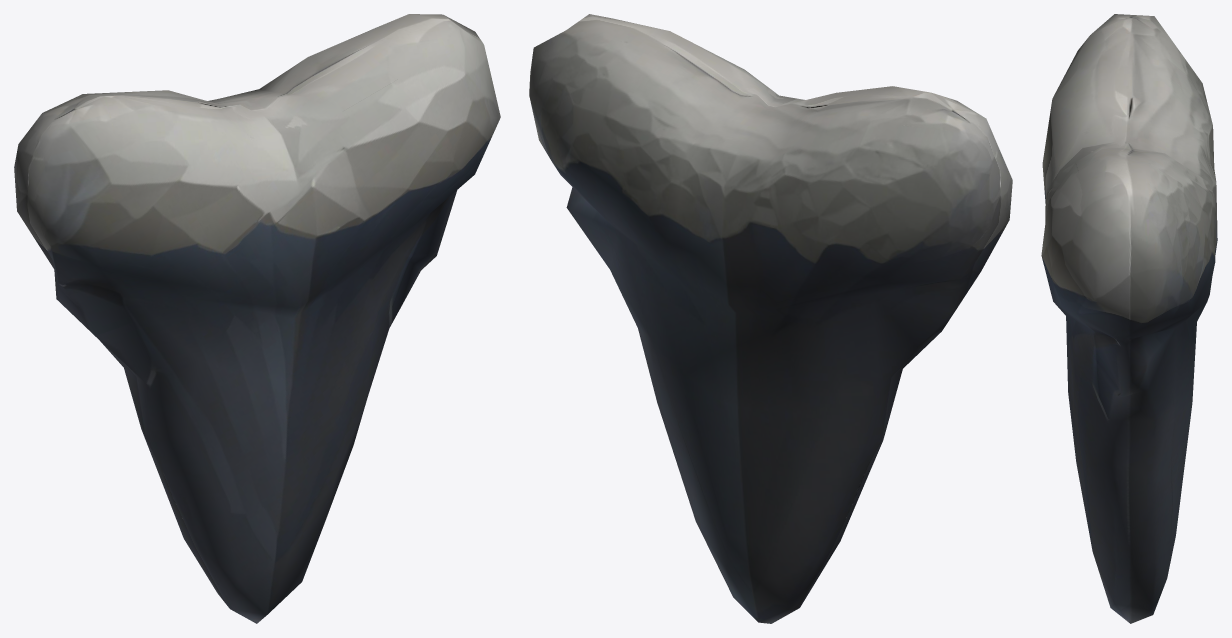
Rendered from Deep_Sea_Shark_Teeth_0727020711_texture.fbx.
The picture shows the model from 3 angles, left to right: view 1: azimuth 30°, elevation 25°; view 2: azimuth 150°, elevation 25°; view 3: azimuth 270°, elevation 25°; orthographic projection. The views are drawn at different scales.
Visible parts, largest first — view 1: Mesh1; view 2: Mesh1; view 3: Mesh1.
Part boxes in pixels (x1=…): Mesh1: x1=14, y1=14, x2=500, y2=623; Mesh1: x1=529, y1=14, x2=1012, y2=623; Mesh1: x1=1041, y1=14, x2=1217, y2=623.
Bounding box in the file's own units: 171 × 200 × 60.12.
Materials: 1 (1 with a texture image).
